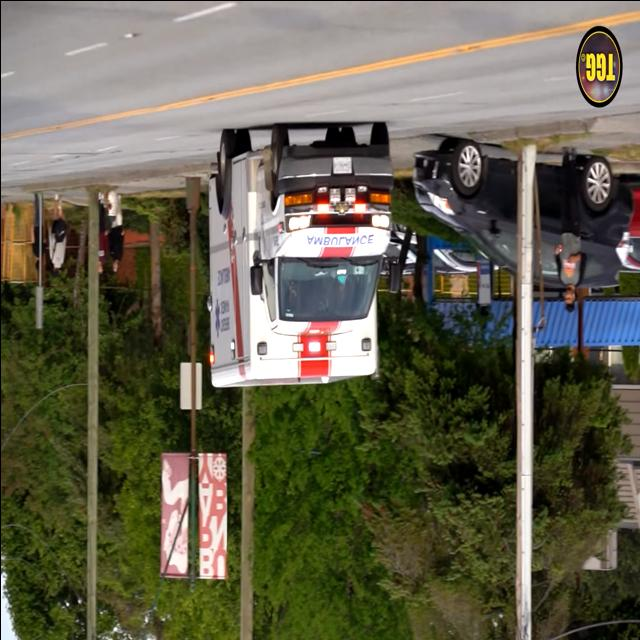emergency-vehicles: (195, 100, 413, 400)
